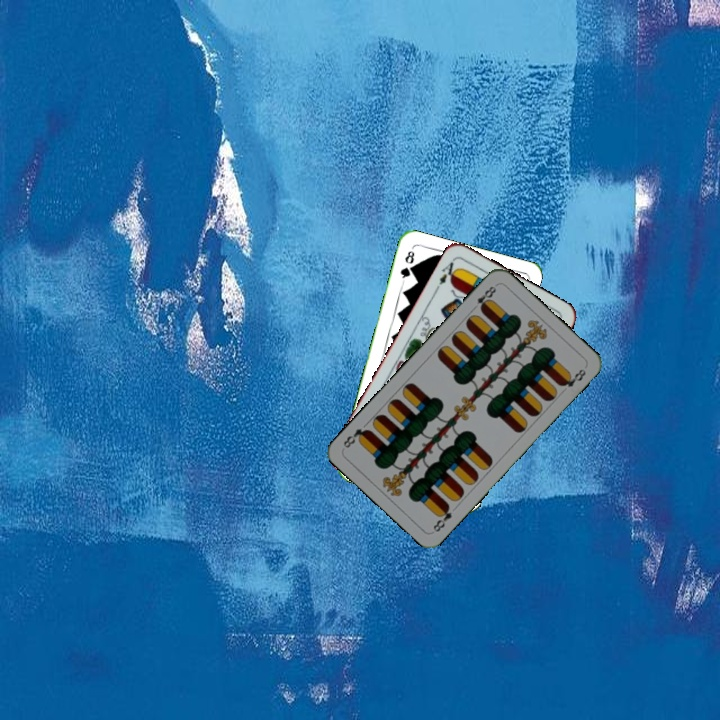E8: (468, 281, 499, 314), (429, 500, 455, 535)
EA: (432, 255, 461, 293)
G8: (396, 247, 417, 285)
